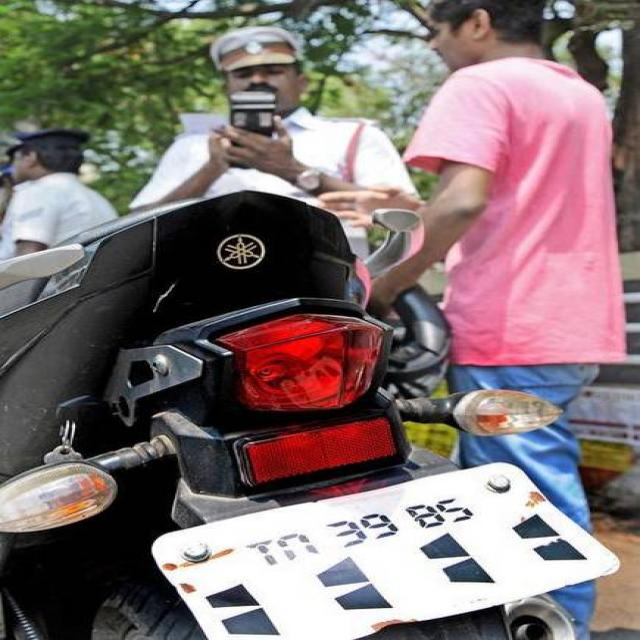license_plate: (148, 458, 620, 640)
